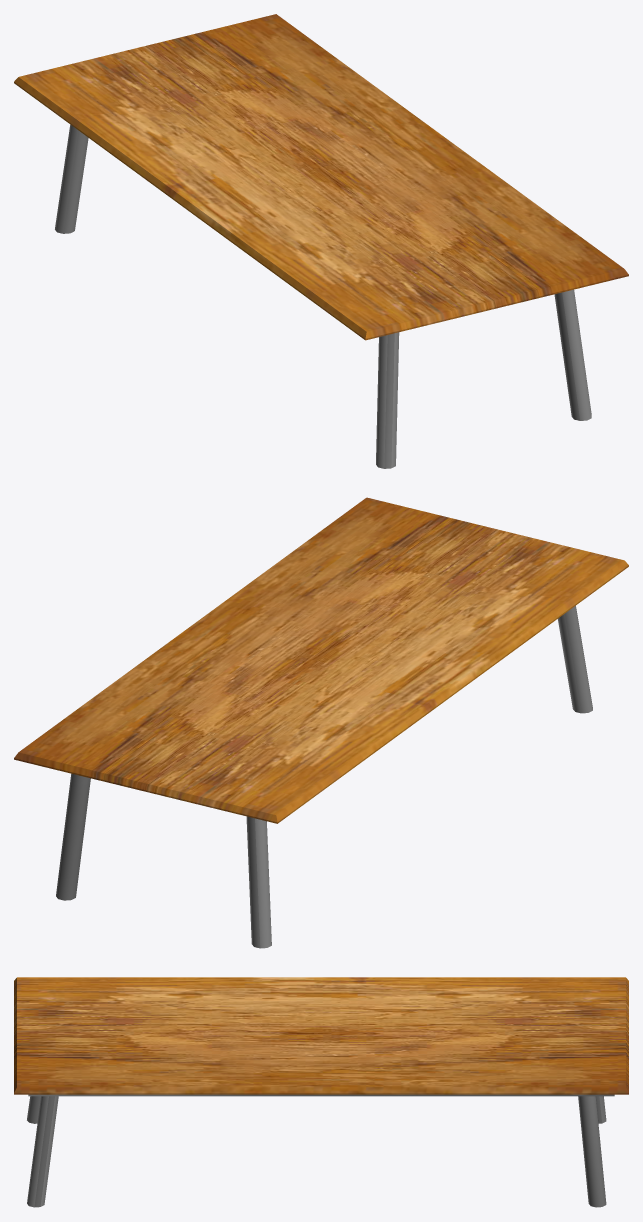
Rendered from table-Low-Quality.FBX.
The picture shows the model from 3 angles, top to bottom: view 1: azimuth 30°, elevation 25°; view 2: azimuth 150°, elevation 25°; view 3: azimuth 270°, elevation 25°; orthographic projection. The views are drawn at different scales.
Visible parts, largest first — view 1: Box005; view 2: Box005; view 3: Box005.
Part boxes in pixels (x1=…): Box005: x1=14, y1=14, x2=628, y2=468; Box005: x1=14, y1=497, x2=628, y2=948; Box005: x1=14, y1=977, x2=628, y2=1207.
Size of the model in its own units: 0.9296 by 0.4997 by 2.15.
